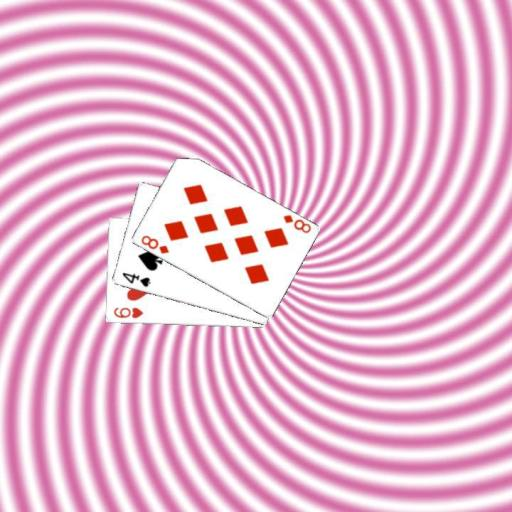4S: (119, 270, 151, 289)
6H: (111, 304, 145, 320)
8D: (137, 232, 171, 255), (280, 211, 312, 235)
